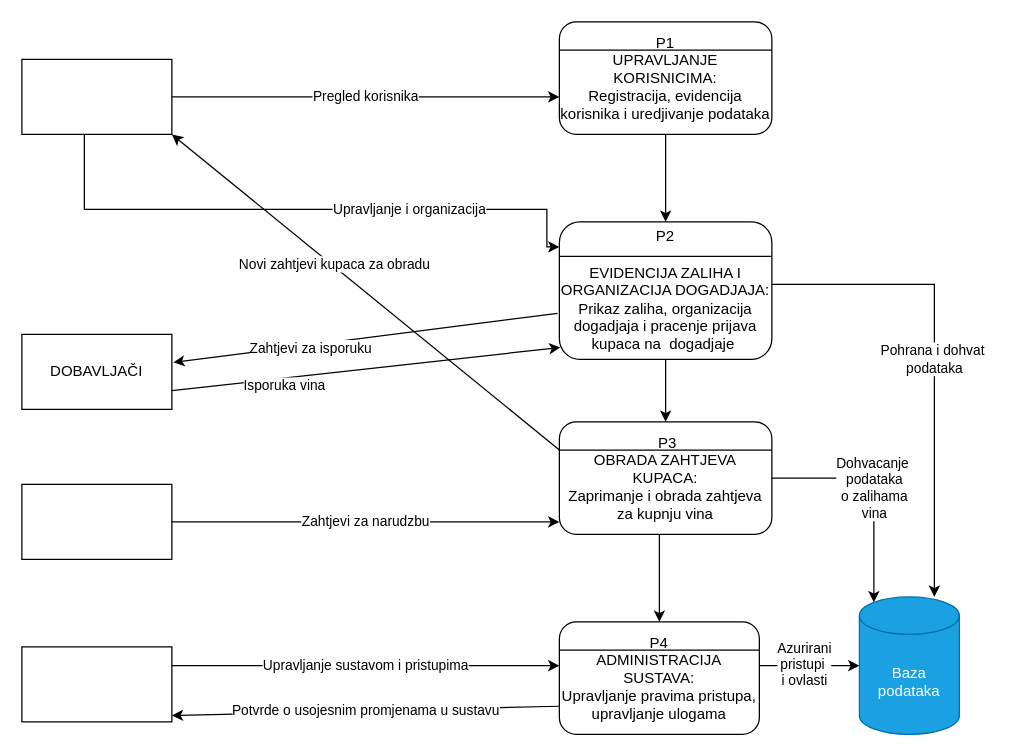
This 1010x756 diagram has some shape labels left out. Here are the shapes that lost their labels. From the top down, the centre of each, then its label:
At [96,96]: "DJELATNICI".
At [96,521]: "KUPCI".
At [96,684]: "ADMINISTRATORI".
